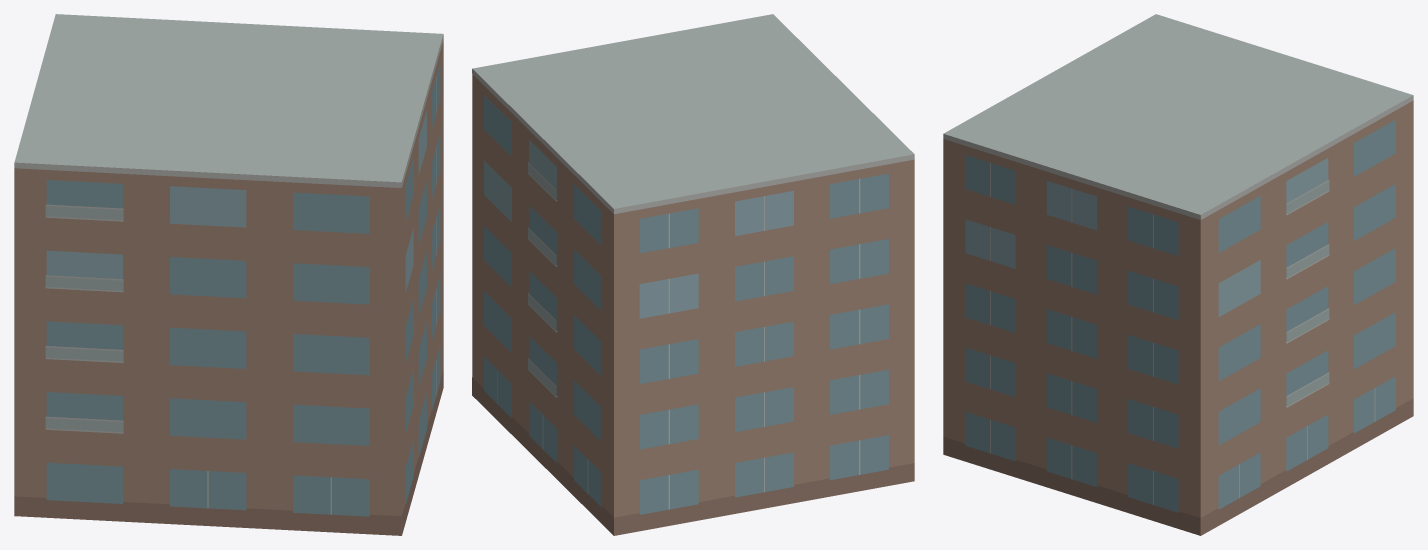
File: survey-upis-32928891.glb
3 renders of one model, left to right at view 1: azimuth 30°, elevation 25°; view 2: azimuth 150°, elevation 25°; view 3: azimuth 270°, elevation 25°, orthographic. The views are drawn at different scales.
Visible parts, largest first — view 1: survey-upis-32928891.tmp; view 2: survey-upis-32928891.tmp; view 3: survey-upis-32928891.tmp.
Boxes of the visible parts, bbox=[...] form: survey-upis-32928891.tmp: bbox=[14, 14, 443, 535]; survey-upis-32928891.tmp: bbox=[472, 14, 914, 535]; survey-upis-32928891.tmp: bbox=[943, 14, 1413, 535].
Bounding box in the file's own units: 20.5 × 15.25 × 20.27.
